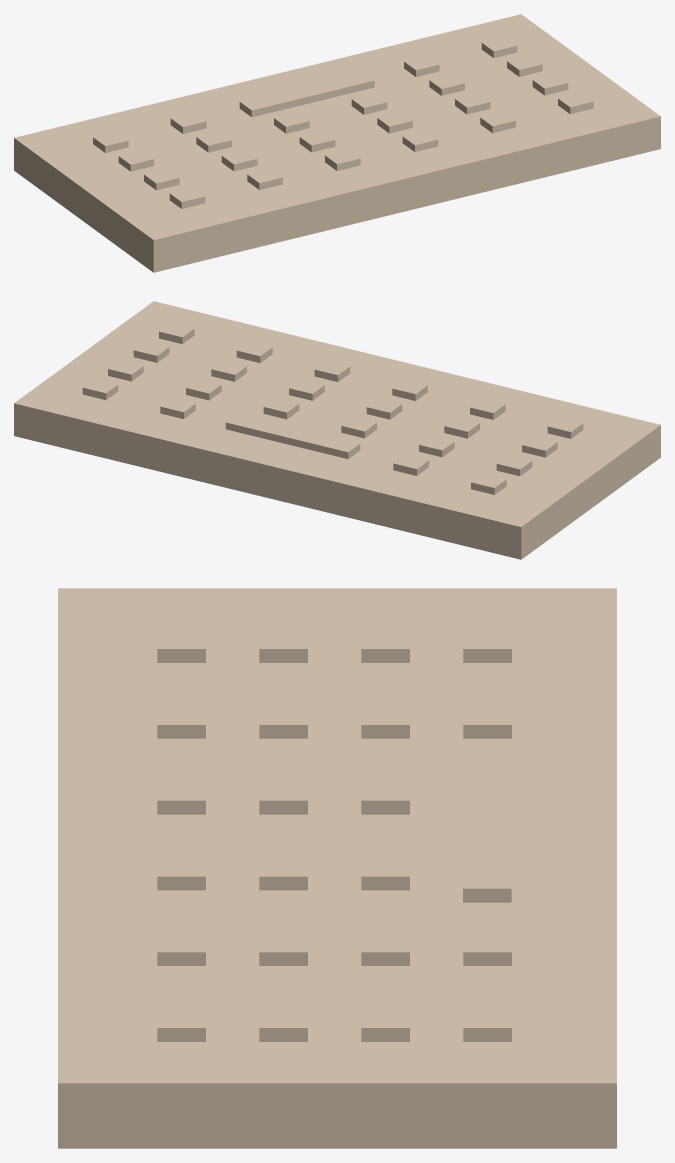
File: Old Keyboard.fbx
3 views of the same model, one above another, from view 1: azimuth 30°, elevation 25°; view 2: azimuth 150°, elevation 25°; view 3: azimuth 270°, elevation 25° (orthographic). The views are drawn at different scales.
Visible parts, largest first — view 1: Old Keyboard; view 2: Old Keyboard; view 3: Old Keyboard.
Part boxes in pixels (x1,y1,x2,y2): Old Keyboard: [14, 14, 660, 272]; Old Keyboard: [14, 301, 660, 559]; Old Keyboard: [58, 588, 616, 1148].
Bounding box in the file's own units: 0.5773 × 0.0431 × 0.2754.
